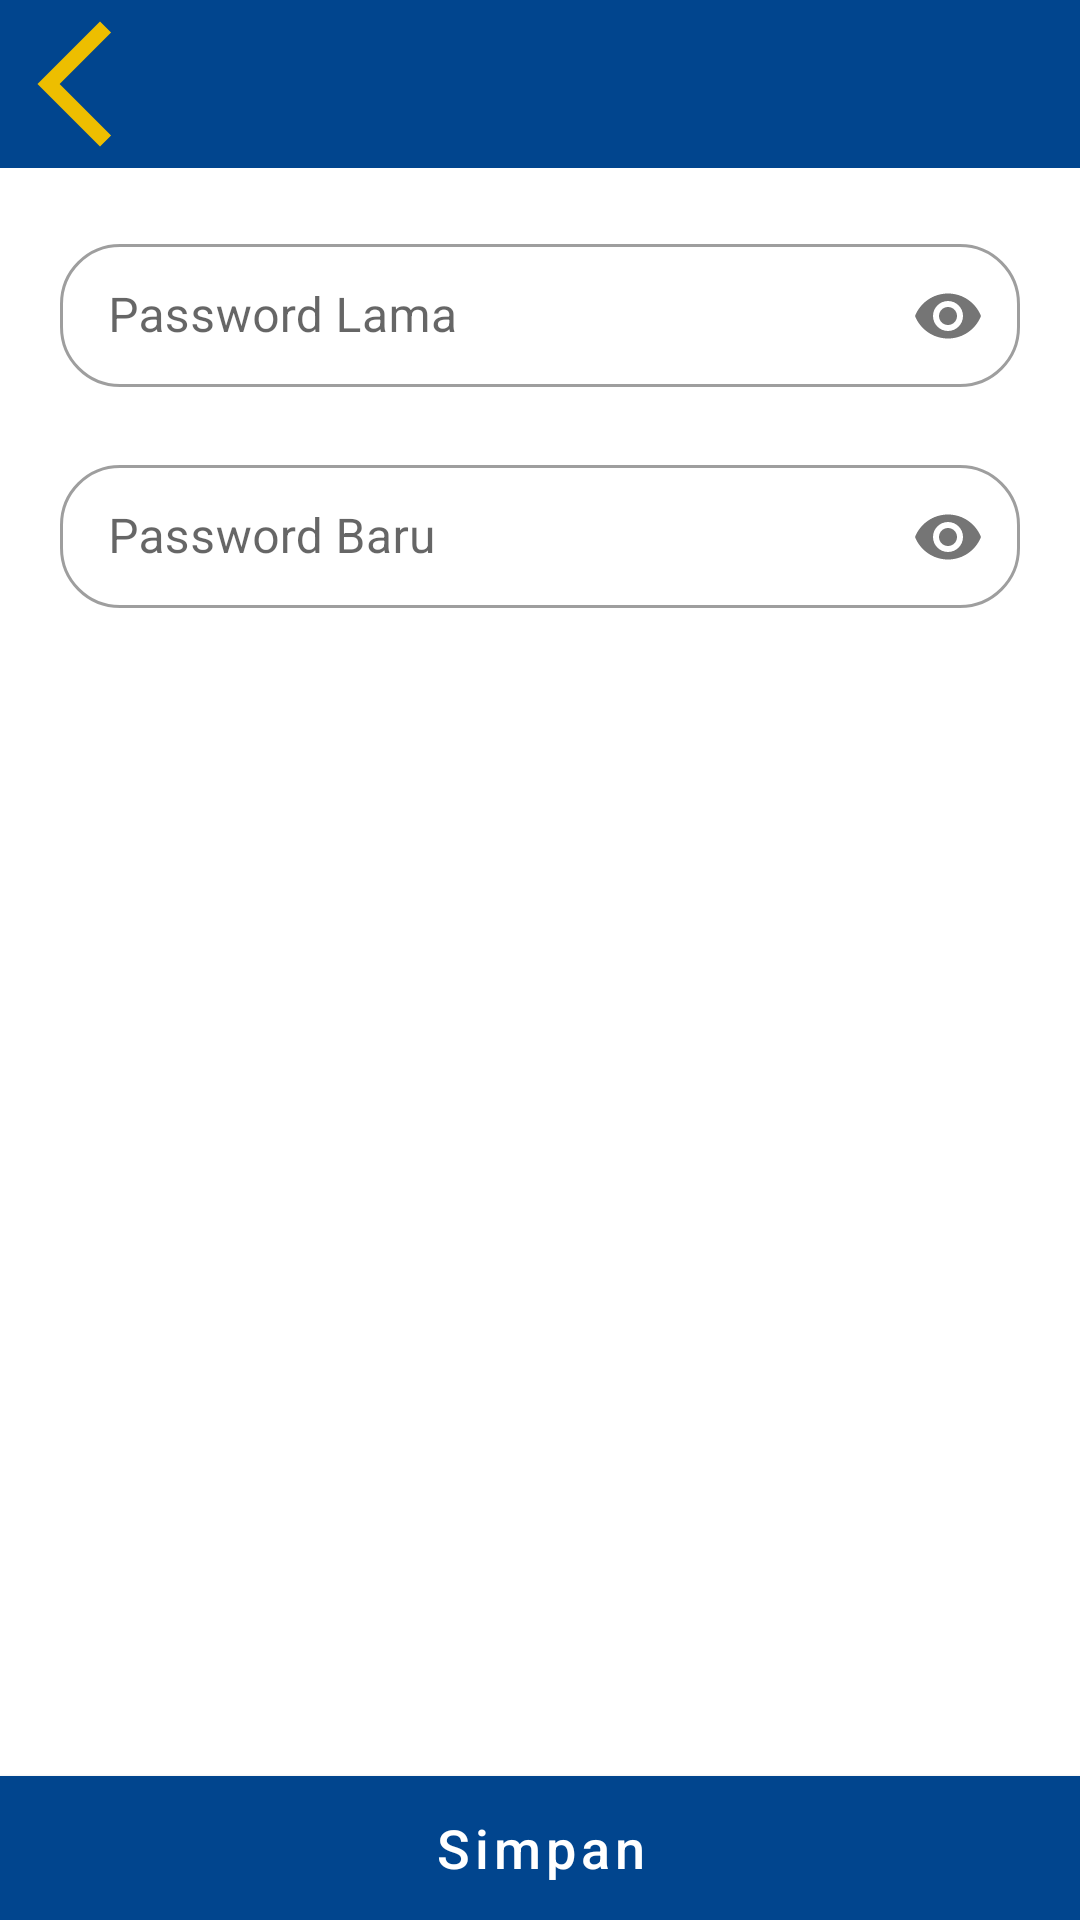

Icons on this 1080 x 1920 Android screen, each with its box as (x1, y1, x2, y2):
arrow back: (37, 21, 111, 147)
